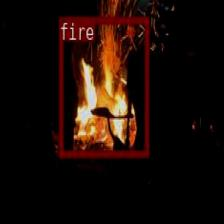fire: (58, 16, 148, 156)
